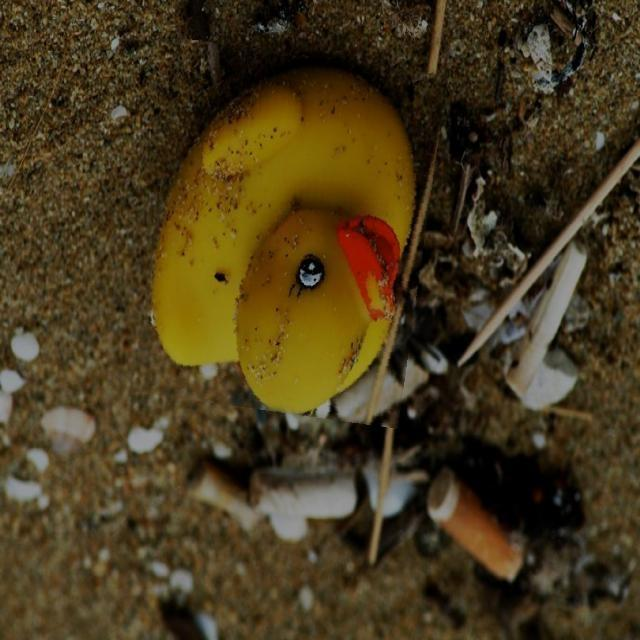rubber-duck: (152, 68, 412, 411)
